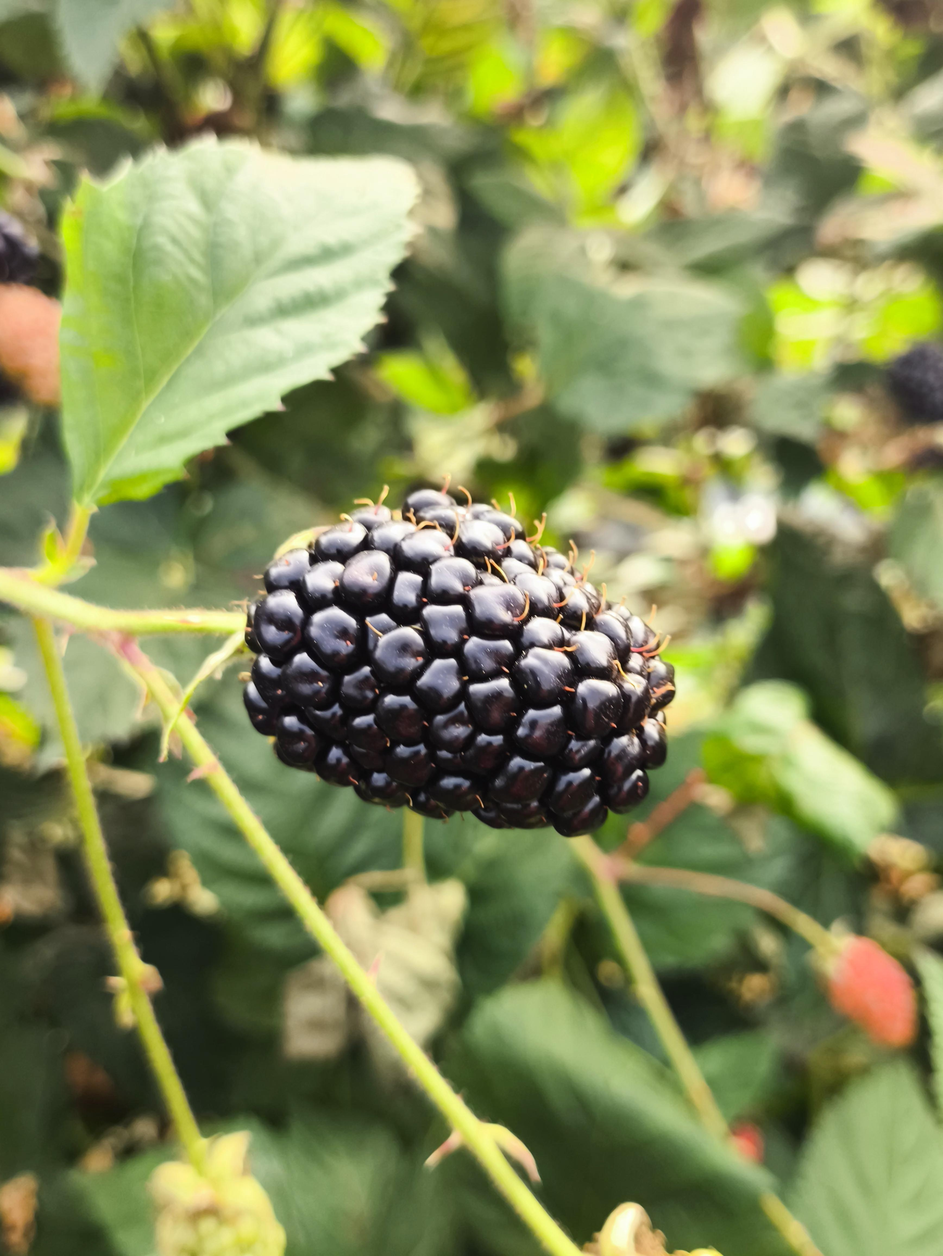maduro: (244, 493, 671, 839)
